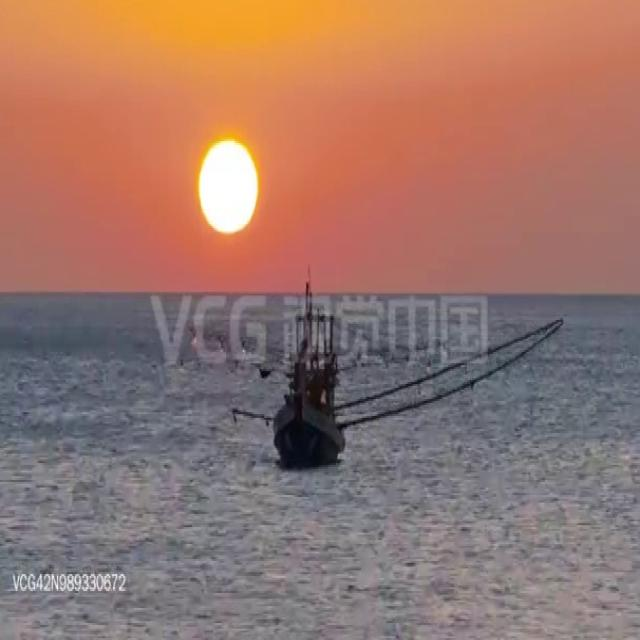houseboat: (272, 287, 345, 463)
